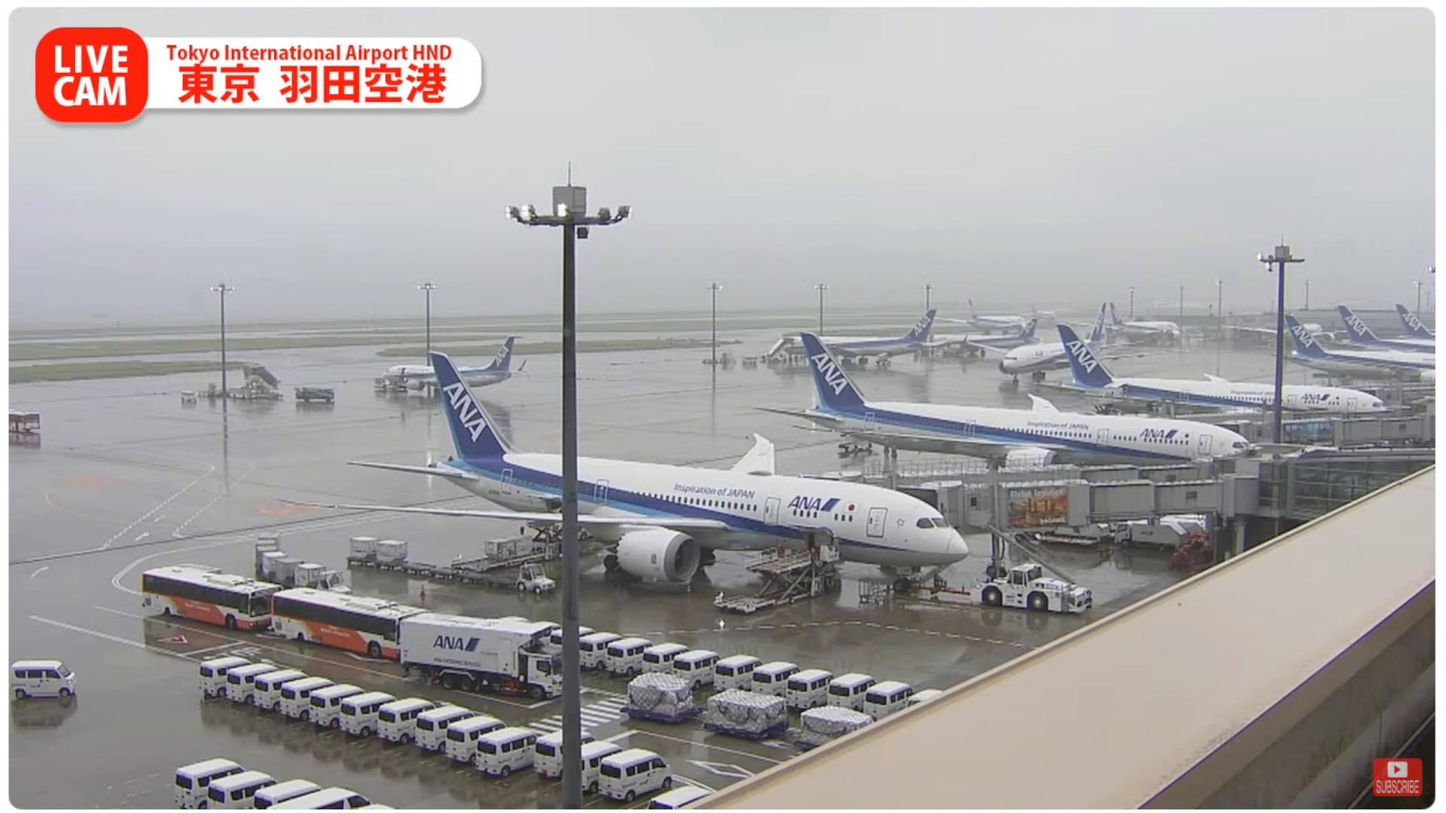APS: (968, 562, 1094, 614)
Aerobridge: (892, 474, 1261, 535), (796, 455, 1210, 487)
Airplane: (270, 351, 970, 592)
Catering: (399, 612, 565, 698)
Dolly: (346, 551, 516, 588), (256, 549, 318, 589)
JCPL: (711, 554, 833, 609), (451, 522, 563, 573)
Tractor: (515, 563, 556, 594), (316, 569, 352, 594)
Window: (1292, 458, 1433, 516)
